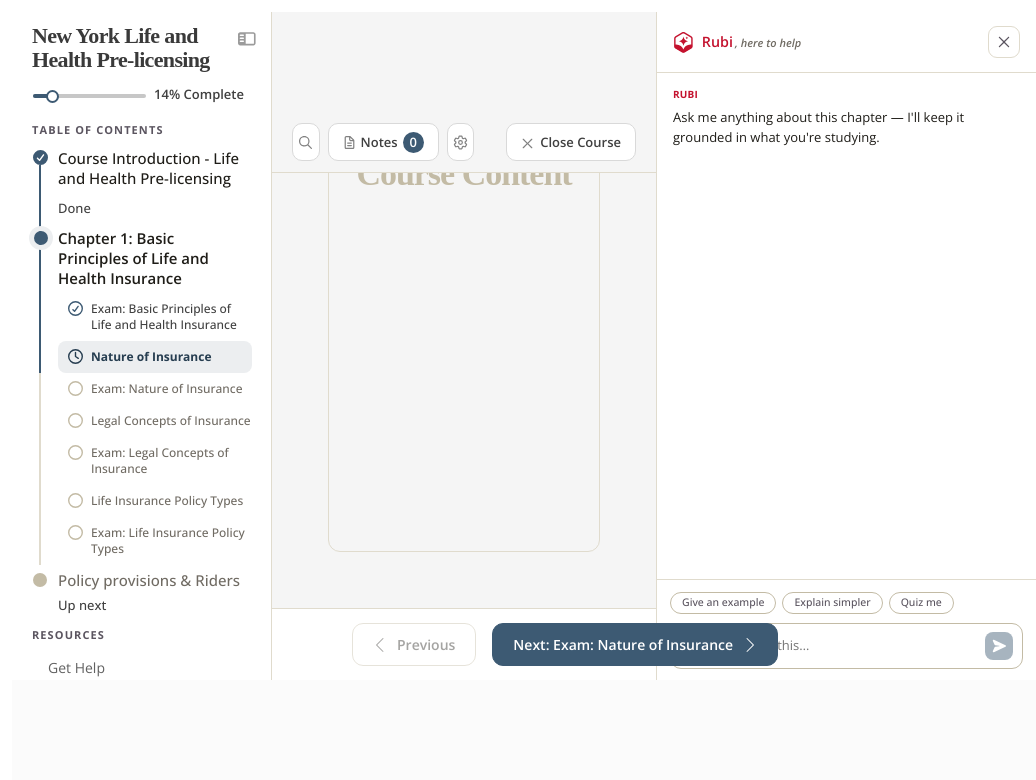
it: Atlas/Compass Global Navigation — the Testing home under the Figma rail › collapses the left rail from its top-right button and expands it again (Figma 174:1562)
Click the button named "Collapse sidebar": (247, 39) [238, 28, 256, 50]
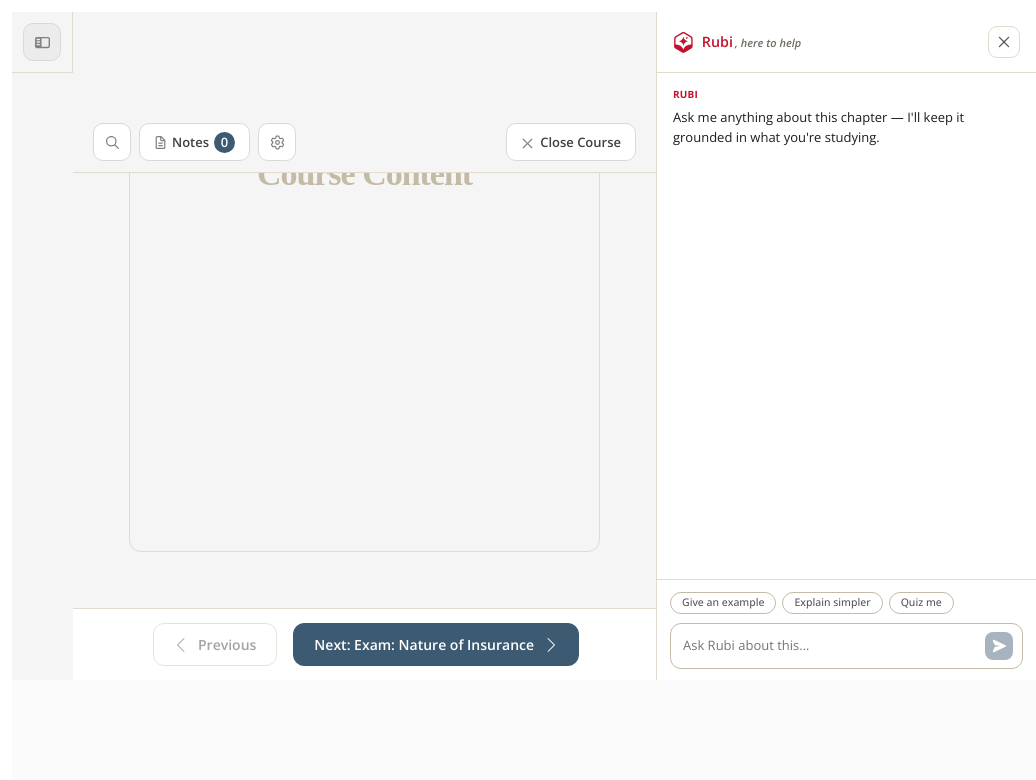
Expected: the button named "Expand sidebar" is collapsed
Click the button named "Expand sidebar": (42, 42) [12, 12, 73, 73]
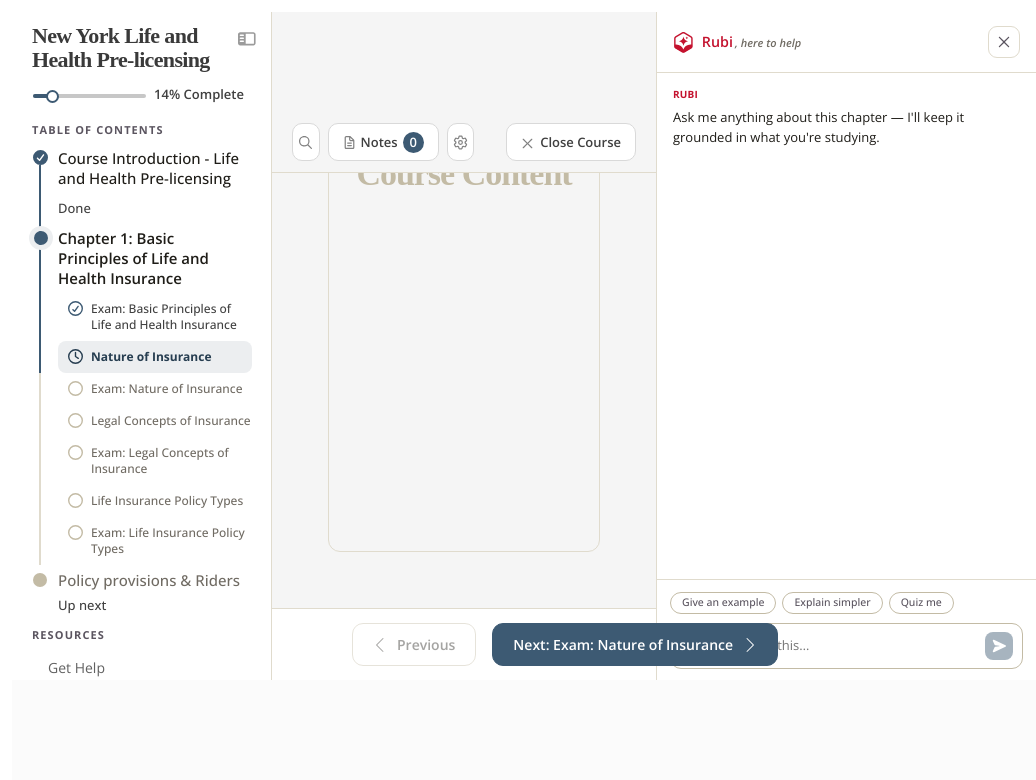
Expected: the button named "Collapse sidebar" is shown, [238, 28, 256, 50]
